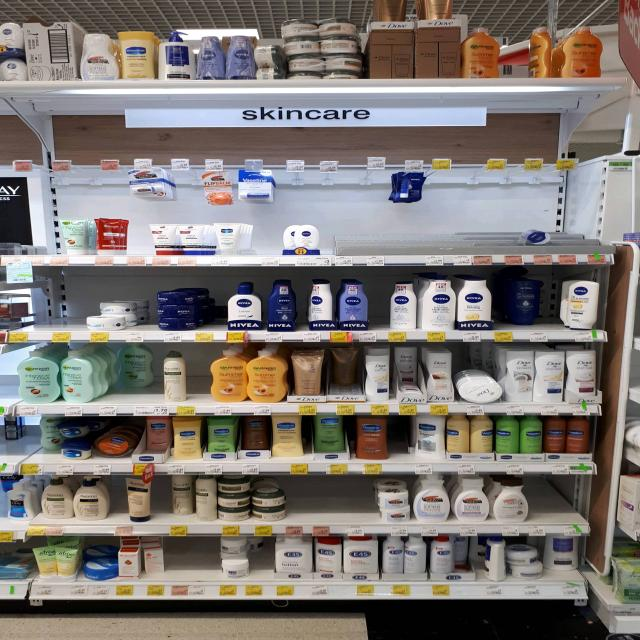void: (288, 479, 337, 538), (9, 274, 45, 344), (48, 266, 79, 342), (341, 475, 376, 537), (555, 219, 601, 263), (532, 474, 562, 536), (561, 476, 590, 536), (245, 222, 280, 266), (191, 538, 216, 599), (409, 223, 445, 265), (478, 224, 514, 264), (126, 218, 155, 266), (167, 537, 190, 597), (378, 222, 408, 266), (321, 221, 351, 265), (444, 224, 476, 264), (351, 222, 377, 266)
